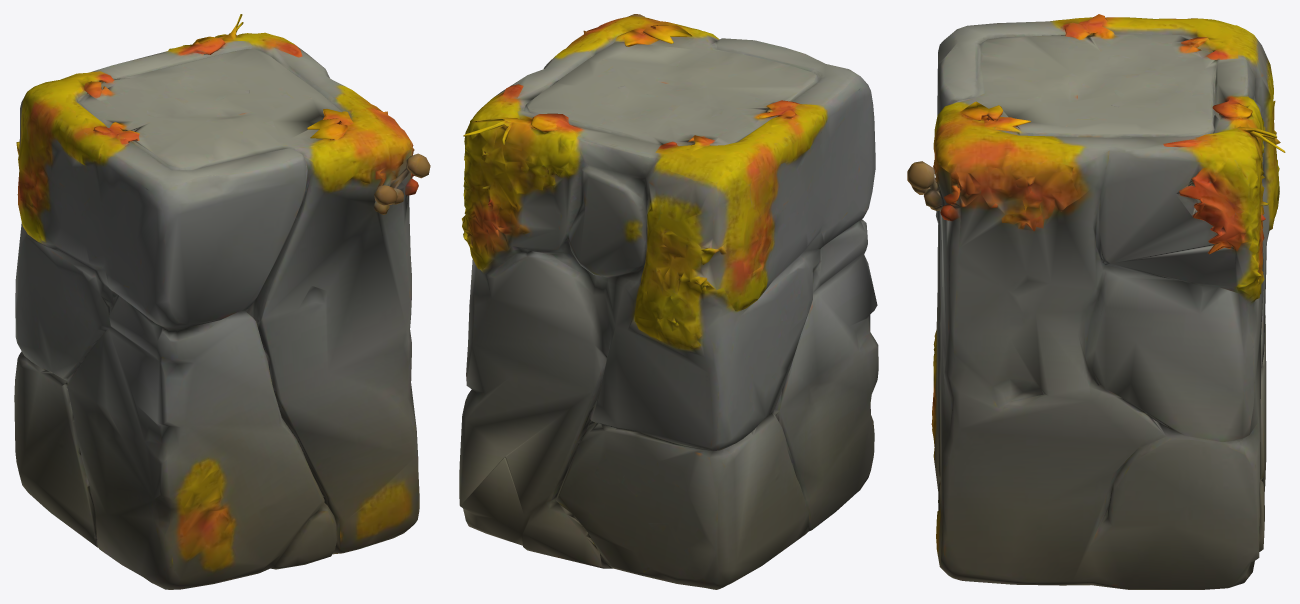
3 renders of one model, left to right at view 1: azimuth 30°, elevation 25°; view 2: azimuth 150°, elevation 25°; view 3: azimuth 270°, elevation 25°, orthographic. The views are drawn at different scales.
Visible parts, largest first — view 1: world; view 2: world; view 3: world.
Boxes of the visible parts, left/top/right/bottom form: world: left=14, top=14, right=430, bottom=589; world: left=459, top=14, right=878, bottom=589; world: left=907, top=14, right=1285, bottom=589.
Bounding box in the file's own units: 0.6798 × 1 × 0.7683.
1 material, 1 textured.
